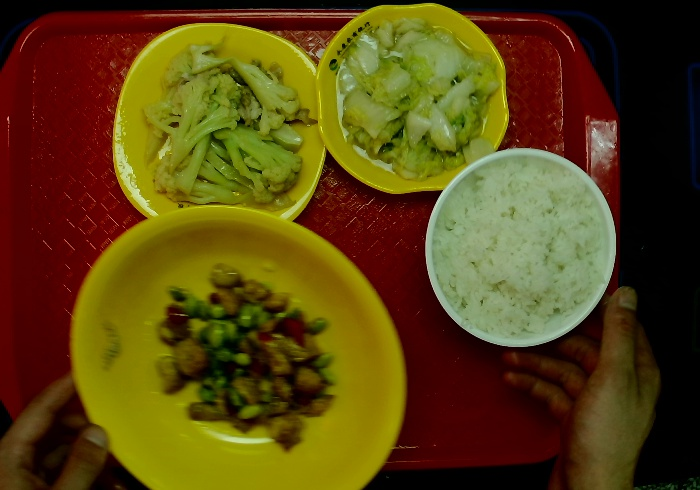YKMZ-Fan_Wan: (422, 146, 618, 350)
YKMZ-Huang_Se_Ao_Bian_Wan: (315, 1, 513, 198)
YKMZ-Huang_Se_Fang_Die: (112, 20, 325, 224)
YKMZ-Huang_Se_Tang_Wan: (69, 204, 406, 490)
